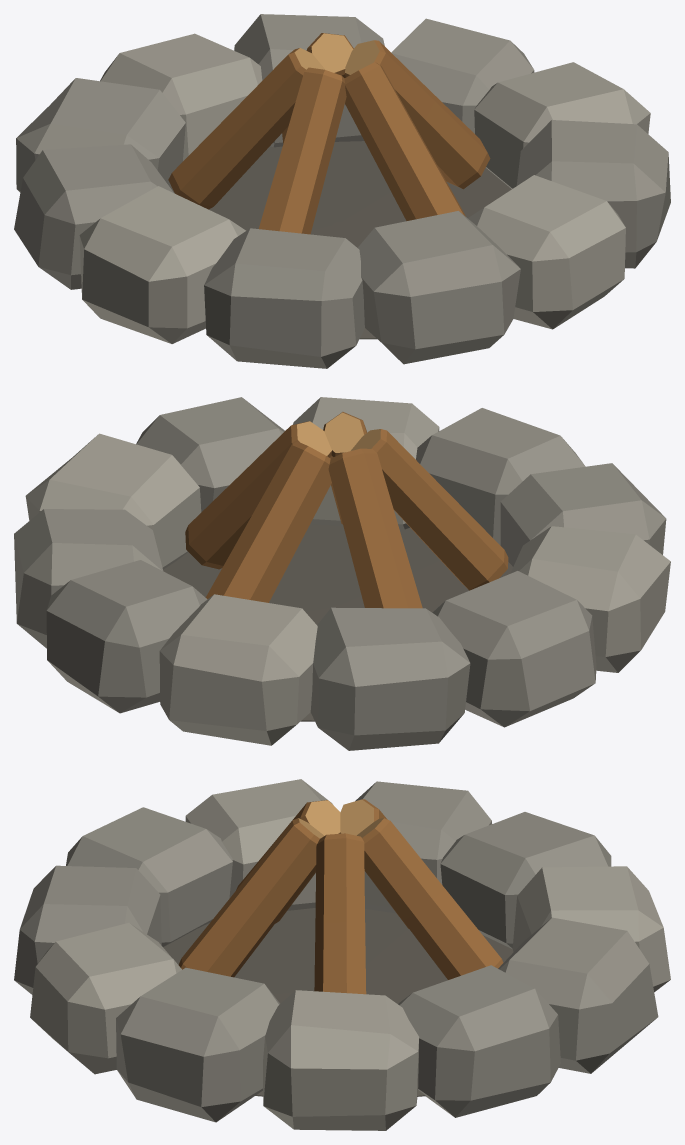
File: fire_site_stone_01.glb
3 renders of one model, top to bottom at view 1: azimuth 30°, elevation 25°; view 2: azimuth 150°, elevation 25°; view 3: azimuth 270°, elevation 25°, orthographic.
Parts seen in each view (by area): view 1: fire_site_stone_01, fire_site_stone_01__site_bed; view 2: fire_site_stone_01, fire_site_stone_01__site_bed; view 3: fire_site_stone_01, fire_site_stone_01__site_bed.
Boxes of the visible parts, x1=… form: fire_site_stone_01: x1=14, y1=14, x2=670, y2=368; fire_site_stone_01__site_bed: x1=170, y1=141, x2=511, y2=339; fire_site_stone_01: x1=14, y1=397, x2=670, y2=750; fire_site_stone_01__site_bed: x1=163, y1=524, x2=512, y2=721; fire_site_stone_01: x1=14, y1=779, x2=670, y2=1130; fire_site_stone_01__site_bed: x1=163, y1=908, x2=513, y2=1096.
Bounding box in the file's own units: 1.34 × 0.4305 × 1.35.
